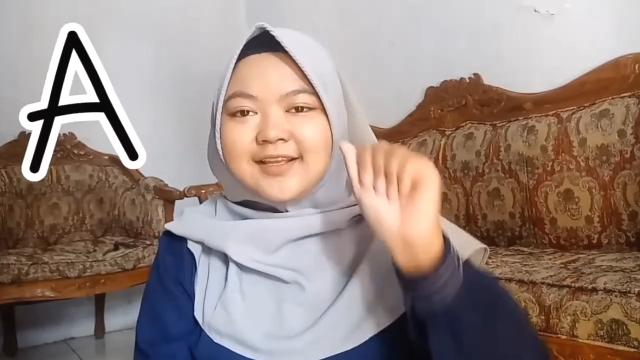A: (338, 137, 444, 247)
